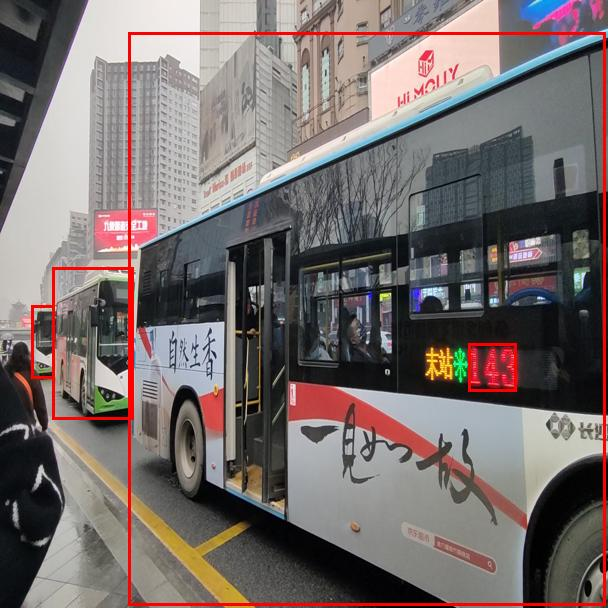bus: (128, 32, 605, 605), (52, 267, 133, 419), (31, 305, 54, 378)
screen: (468, 343, 516, 391)
